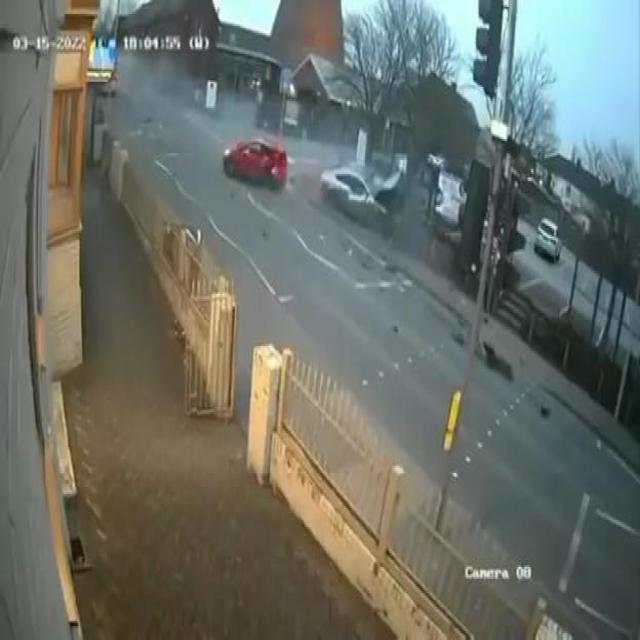accident: (314, 145, 410, 239), (216, 122, 290, 200)
